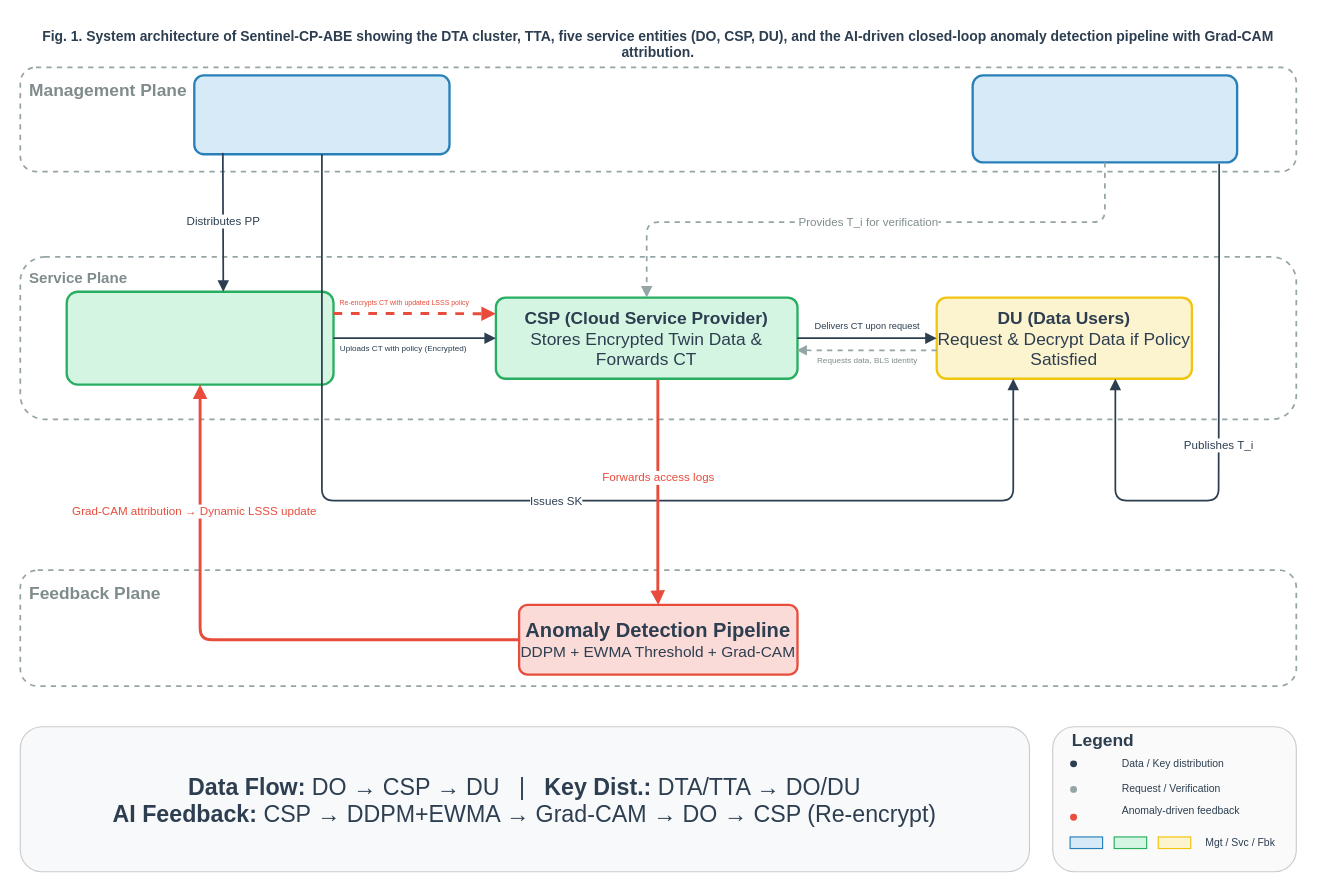
The diagram is 1340 pixels wide and 892 high, and some of its shapes have lost their labels. Here are the shapes that lost their labels. From the top down, the centre of each, then its label:
At point 321,114: "DTA Cluster (t,n) Shamir SSS · Feldman VSS · Threshold KeyGen".
At point 1104,118: "TTA (Time Token Authority) Maintains Hash-Chain, Publishes T_i".
At point 199,337: "DO (Data Owners / IIoT Devices) Deploy Devices, Set Policies, Issue Revocation".
